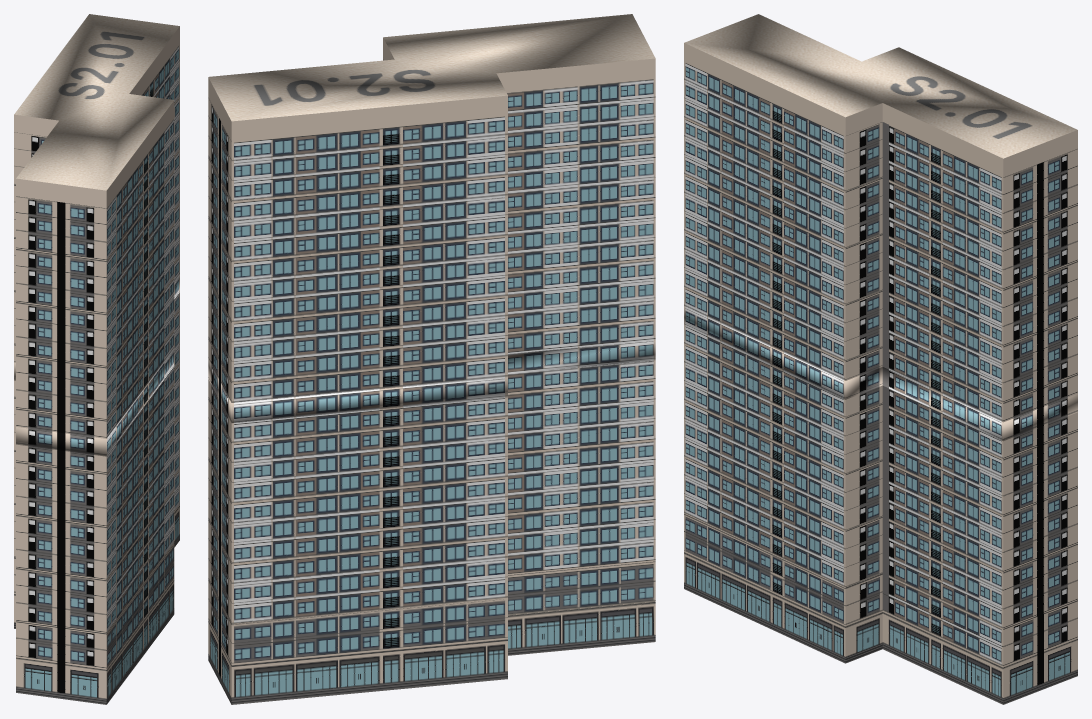
The picture shows the model from 3 angles, left to right: view 1: azimuth 30°, elevation 25°; view 2: azimuth 150°, elevation 25°; view 3: azimuth 270°, elevation 25°; orthographic projection. The views are drawn at different scales.
Parts seen in each view (by area): view 1: Asset3DLoader.sceneRoot; view 2: Asset3DLoader.sceneRoot; view 3: Asset3DLoader.sceneRoot.
Part boxes in pixels (x1,y1,x2,y2): Asset3DLoader.sceneRoot: (14,14,179,704); Asset3DLoader.sceneRoot: (208,14,655,704); Asset3DLoader.sceneRoot: (684,14,1077,704).
Bounding box in the file's own units: 54.24 × 95.5 × 62.38.
Materials: 1 (1 with a texture image).
